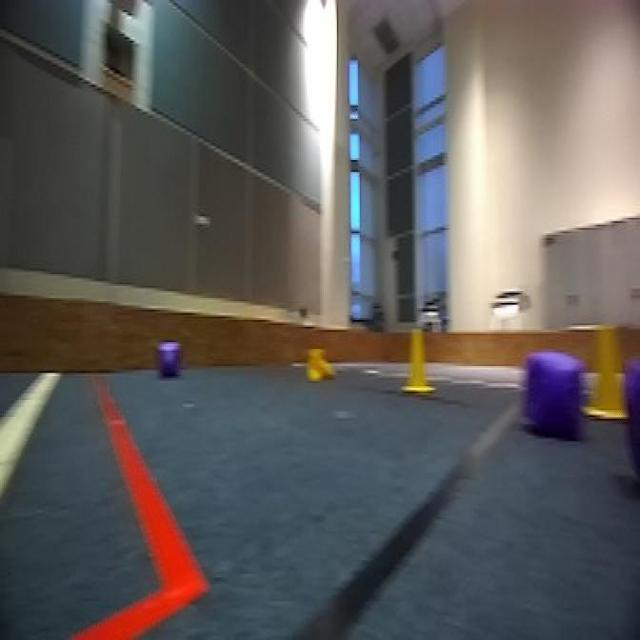frc_cone: (588, 330, 626, 410), (398, 327, 435, 395), (303, 344, 339, 383)
frc_cube: (526, 338, 588, 442), (612, 312, 640, 514), (157, 341, 181, 382)
